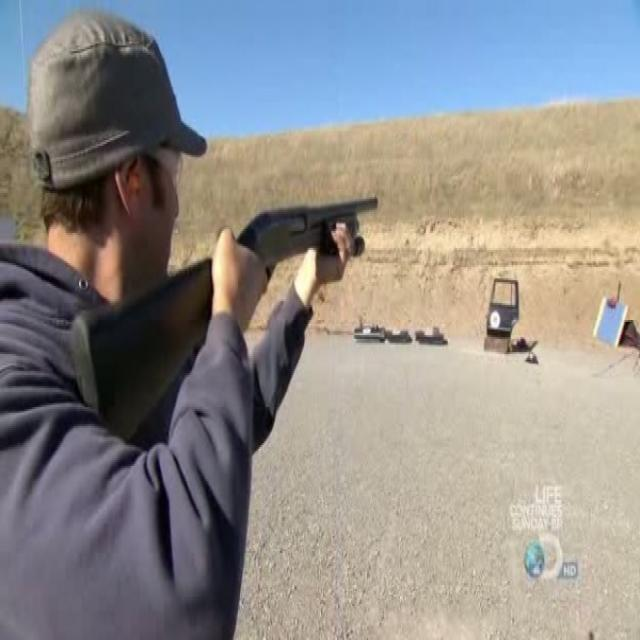rifle: (76, 179, 385, 448)
